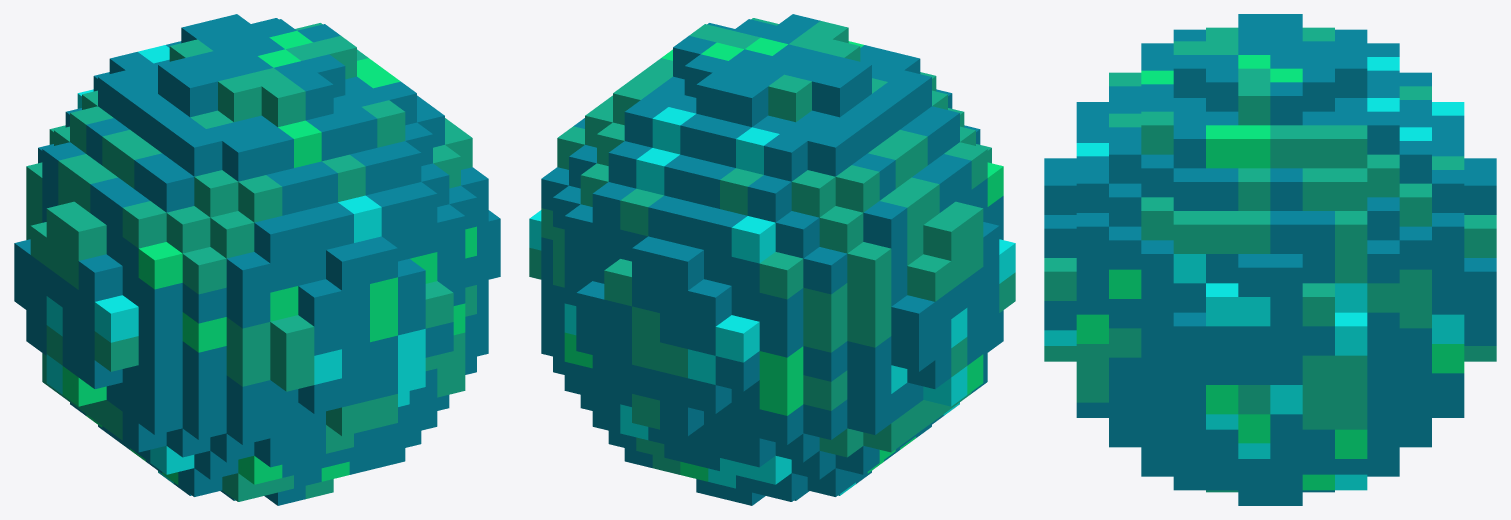
Rendered from planetas-14-azulverde.obj.
The picture shows the model from 3 angles, left to right: view 1: azimuth 30°, elevation 25°; view 2: azimuth 150°, elevation 25°; view 3: azimuth 270°, elevation 25°; orthographic projection.
Bounding box in the file's own units: 1.4 × 1.4 × 1.4.
Materials: 1 (1 with a texture image).
